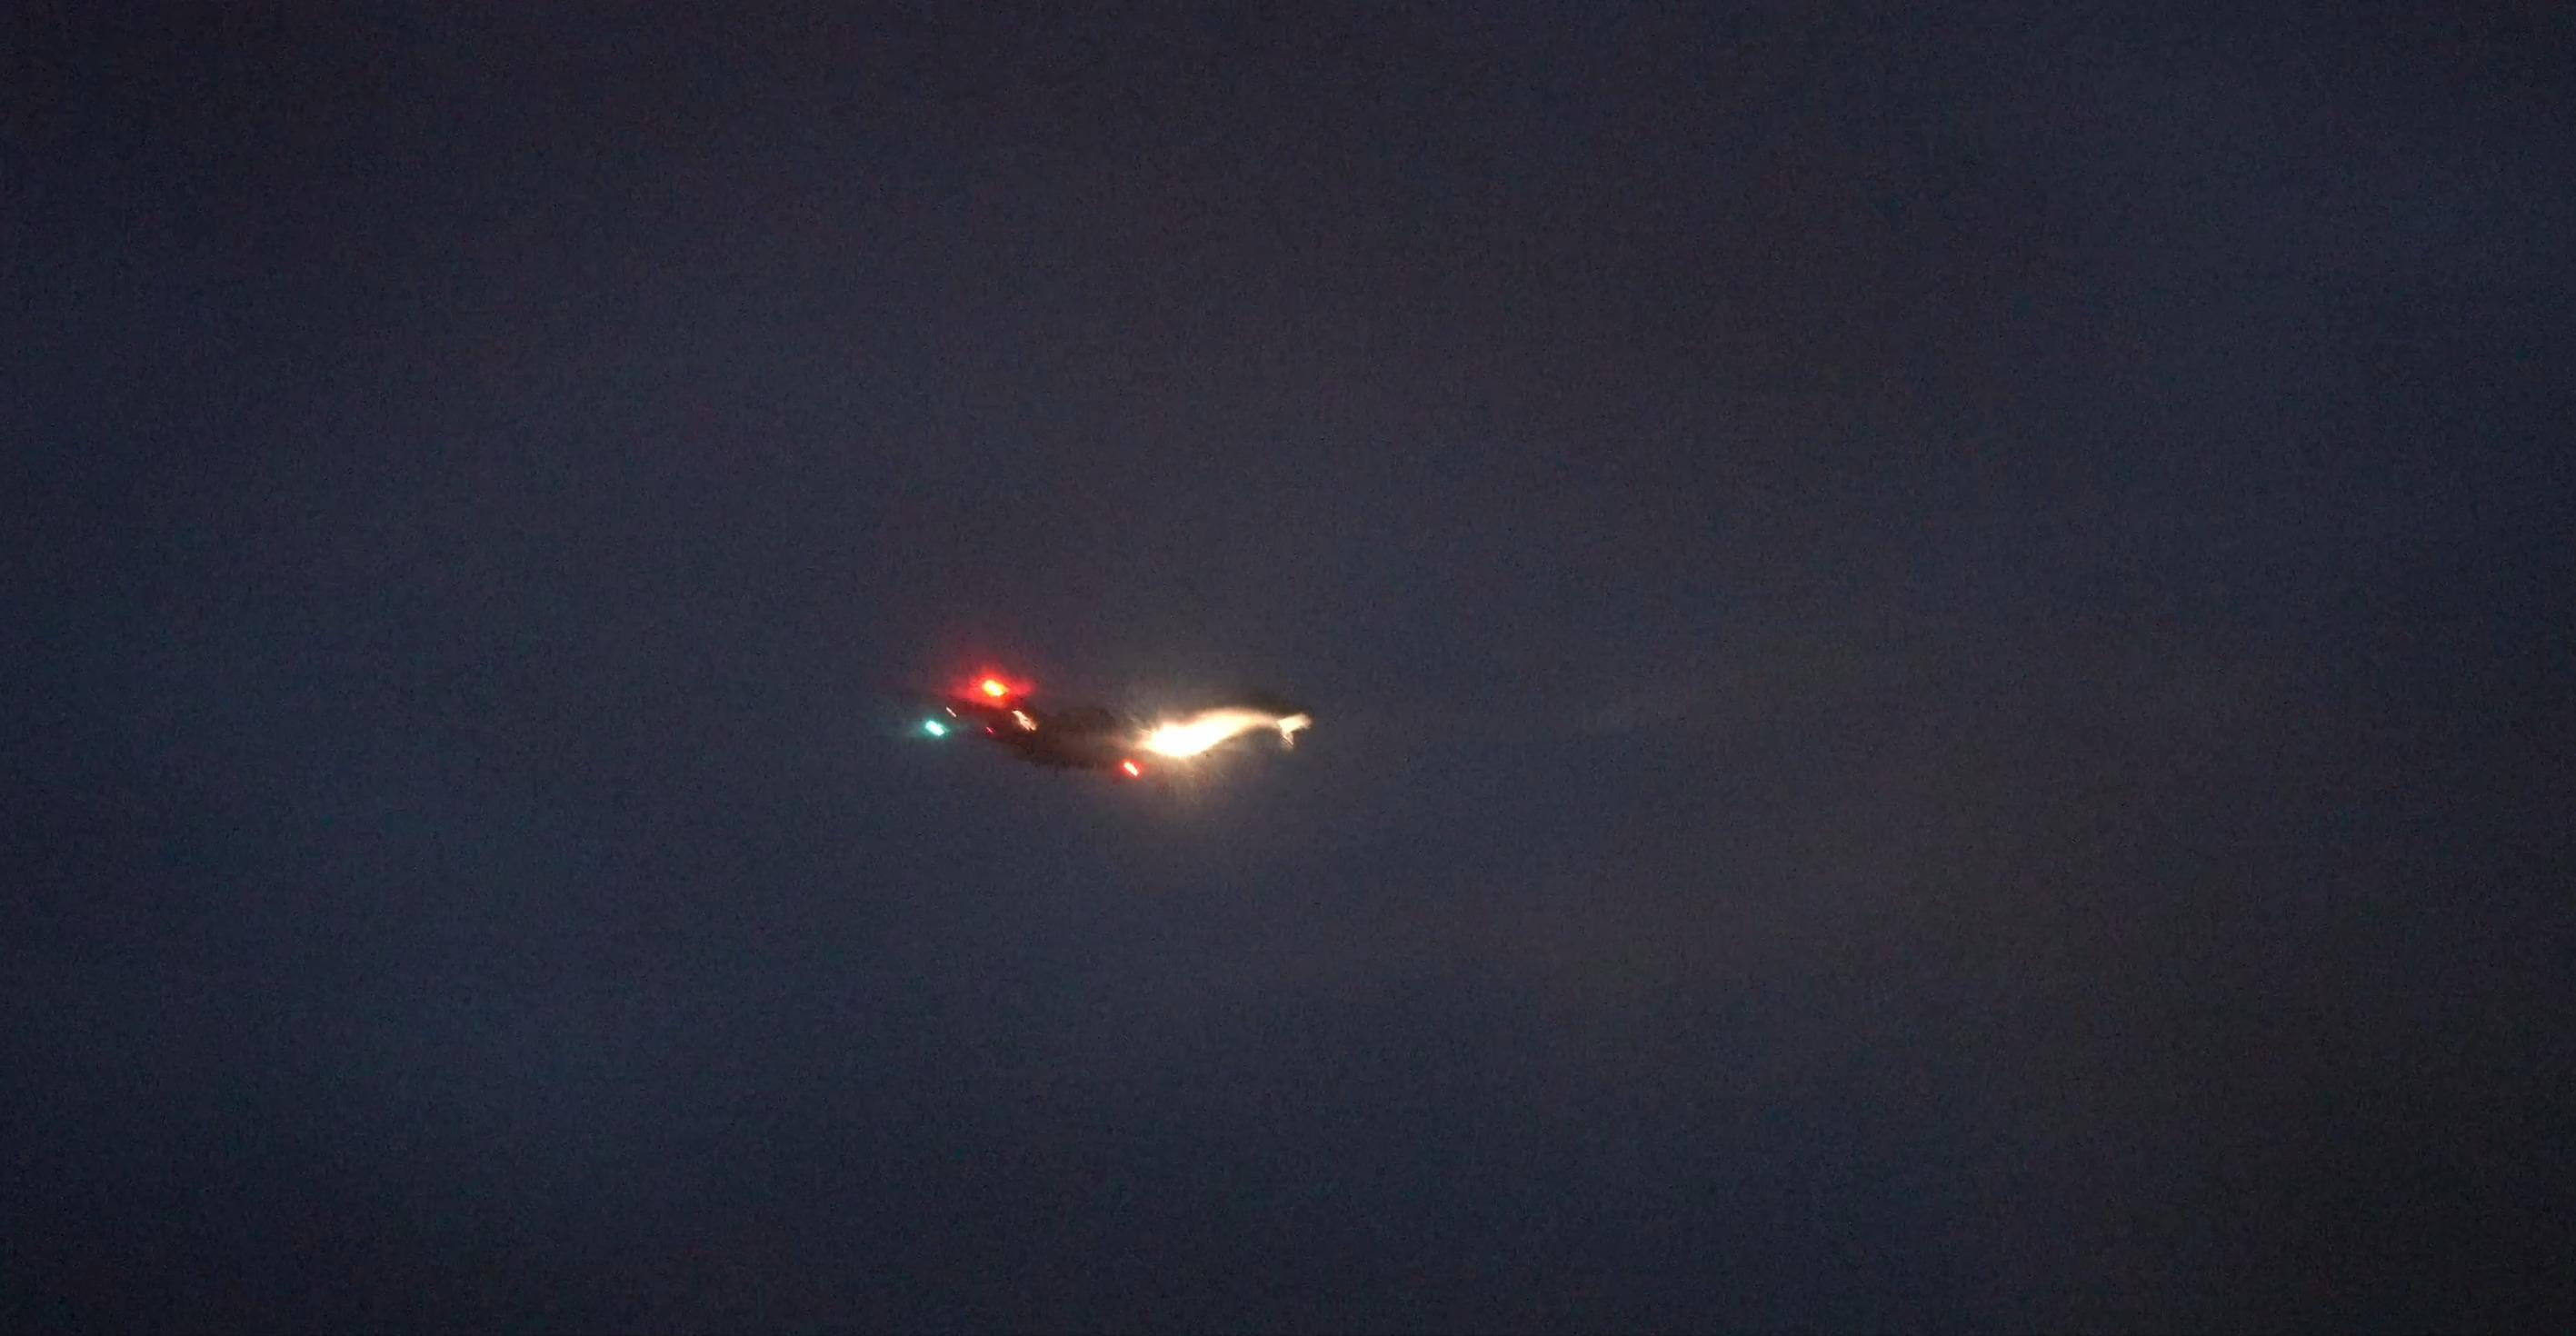Plane: (768, 619, 1465, 867)
